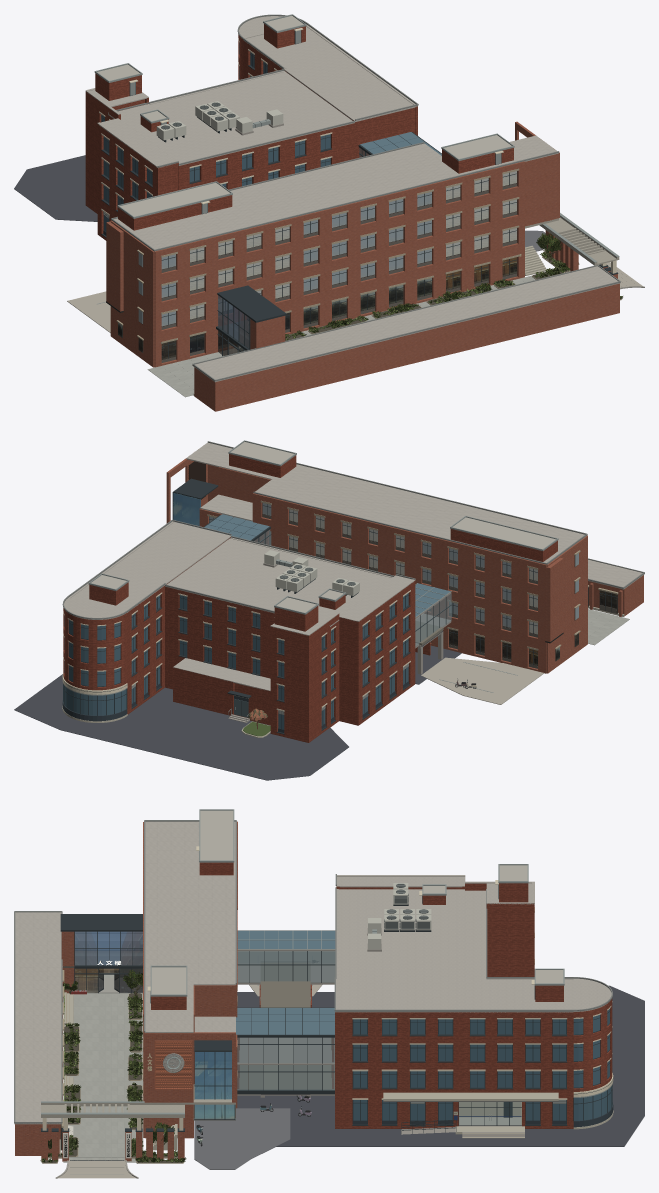
File: pe_humanities.glb
3 views of the same model, one above another, from view 1: azimuth 30°, elevation 25°; view 2: azimuth 150°, elevation 25°; view 3: azimuth 270°, elevation 25° (orthographic). The views are drawn at different scales.
Parts seen in each view (by area): view 1: CB10_AC_cb10_fired_clay, CB10_AC_cb10_roof_membrane, CB05_B_roof, CB05_B_brick, CB10_AC_cb10_window_glass, AB_Link_roof_flashing, AB_Link_brick, CB10_AC_metal, AB_Link_lane_asphalt, AB_Link_tile, CB10_AC_humanities_spandrel, CB10_AC_humanities_sill (+14 smaller); view 2: CB05_B_brick, CB10_AC_cb10_fired_clay, CB05_B_roof, AB_Link_lane_asphalt, CB10_AC_cb10_roof_membrane, CB05_B_office_glass, AB_Link_brick, CB10_AC_cb10_window_glass, AB_Link_apron_granite, AB_Link_roof_flashing, CB05_B_metal, AB_Link_tile (+13 smaller); view 3: CB10_AC_cb10_roof_membrane, CB05_B_brick, CB05_B_roof, AB_Link_lane_asphalt, CB05_B_office_glass, CB10_AC_court_stone, CB10_AC_cb10_fired_clay, AB_Link_bridge_glass, CB05_B_metal, AB_Link_curb_asphalt, AB_Link_glass, AB_Link_soffit (+32 smaller).
Boxes of the visible parts, bbox=[...] form: CB10_AC_cb10_fired_clay: bbox=[106, 121, 619, 411]; CB10_AC_cb10_roof_membrane: bbox=[114, 135, 620, 382]; CB05_B_roof: bbox=[85, 16, 417, 168]; CB05_B_brick: bbox=[85, 34, 417, 240]; CB10_AC_cb10_window_glass: bbox=[118, 171, 516, 359]; AB_Link_roof_flashing: bbox=[108, 14, 620, 381]; AB_Link_brick: bbox=[95, 24, 513, 230]; CB10_AC_metal: bbox=[161, 172, 618, 358]; AB_Link_lane_asphalt: bbox=[14, 155, 97, 221]; AB_Link_tile: bbox=[97, 16, 511, 216]; CB10_AC_humanities_spandrel: bbox=[161, 183, 516, 362]; CB10_AC_humanities_sill: bbox=[116, 168, 621, 343]; CB05_B_brick: bbox=[63, 537, 415, 742]; CB10_AC_cb10_fired_clay: bbox=[166, 458, 643, 673]; CB05_B_roof: bbox=[64, 521, 415, 691]; AB_Link_lane_asphalt: bbox=[14, 645, 461, 780]; CB10_AC_cb10_roof_membrane: bbox=[186, 442, 644, 589]; CB05_B_office_glass: bbox=[63, 593, 408, 729]; AB_Link_brick: bbox=[89, 454, 557, 655]; CB10_AC_cb10_window_glass: bbox=[209, 503, 616, 665]; AB_Link_apron_granite: bbox=[421, 657, 544, 704]; AB_Link_roof_flashing: bbox=[62, 441, 644, 625]; CB05_B_metal: bbox=[63, 594, 410, 734]; AB_Link_tile: bbox=[91, 442, 555, 612]; CB10_AC_cb10_roof_membrane: bbox=[14, 821, 235, 1124]; CB05_B_brick: bbox=[335, 883, 612, 1128]; CB05_B_roof: bbox=[335, 875, 611, 1012]; AB_Link_lane_asphalt: bbox=[237, 985, 644, 1146]; CB05_B_office_glass: bbox=[353, 1009, 612, 1120]; CB10_AC_court_stone: bbox=[63, 969, 143, 1162]; CB10_AC_cb10_fired_clay: bbox=[15, 821, 237, 1161]; AB_Link_bridge_glass: bbox=[237, 951, 335, 1090]; CB05_B_metal: bbox=[352, 1010, 612, 1133]; AB_Link_curb_asphalt: bbox=[194, 1108, 290, 1169]; AB_Link_glass: bbox=[236, 931, 335, 1034]; AB_Link_soffit: bbox=[237, 962, 334, 1089].
Size of the model in its own units: 65.45 by 18.54 by 73.45.
Materials: 82 (29 with a texture image).
